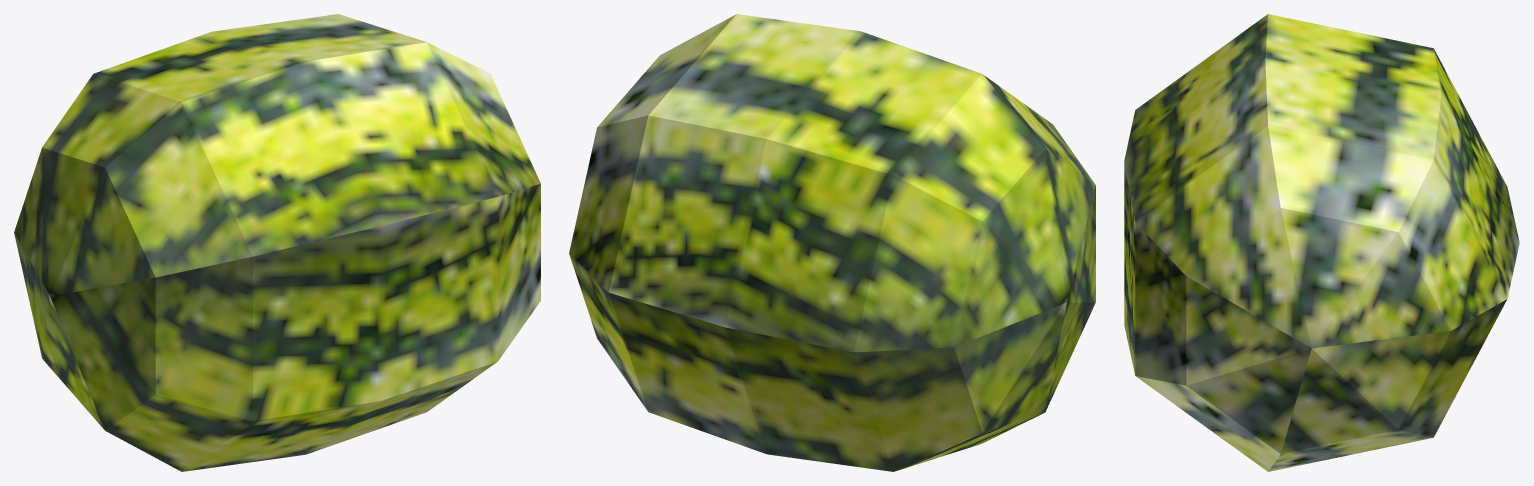
The model's file is Watermelon01a.obj.
The picture shows the model from 3 angles, left to right: view 1: azimuth 30°, elevation 25°; view 2: azimuth 150°, elevation 25°; view 3: azimuth 270°, elevation 25°; orthographic projection. The views are drawn at different scales.
Visible parts, largest first — view 1: Watermelon01a; view 2: Watermelon01a; view 3: Watermelon01a.
Part boxes in pixels (left/top/right/bottom): Watermelon01a: left=14, top=14, right=540, bottom=471; Watermelon01a: left=569, top=14, right=1095, bottom=471; Watermelon01a: left=1124, top=14, right=1519, bottom=471.
Bounding box in the file's own units: 0.2665 × 0.2167 × 0.2112.
